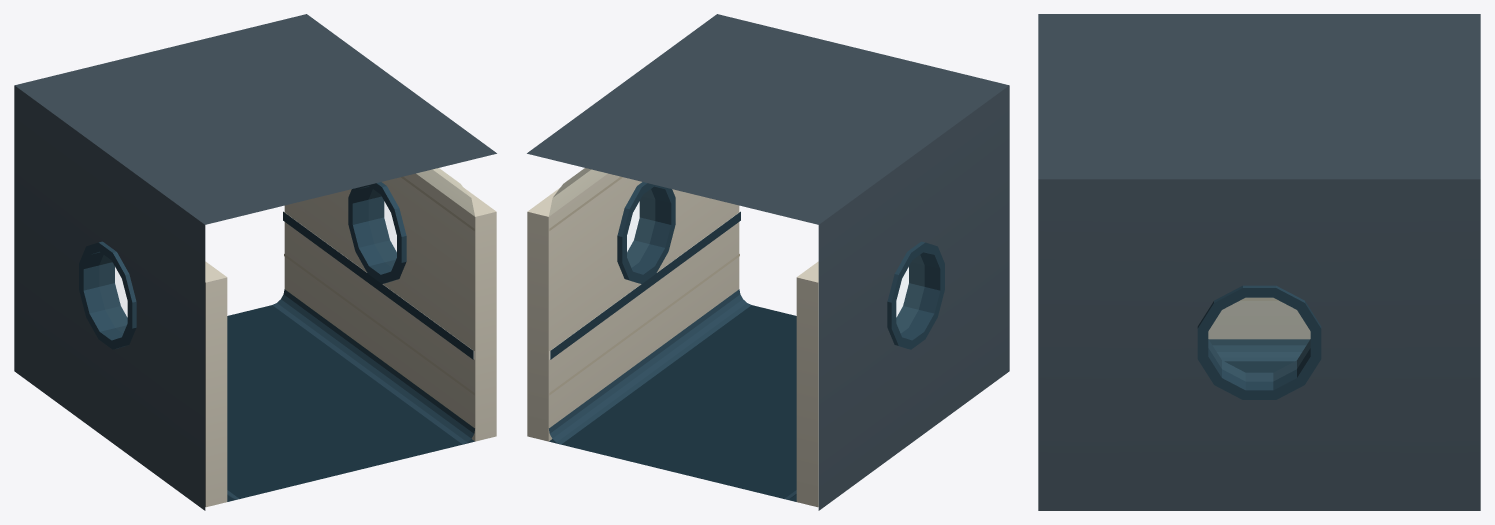
The model's file is corredor_portal.glb.
3 renders of one model, left to right at view 1: azimuth 30°, elevation 25°; view 2: azimuth 150°, elevation 25°; view 3: azimuth 270°, elevation 25°, orthographic. The views are drawn at different scales.
Visible parts, largest first — view 1: casco, paredes, faixa_apagada, teto; view 2: casco, paredes, faixa_apagada, teto; view 3: casco, paredes.
Boxes of the visible parts, bbox=[...] form: casco: bbox=[14, 14, 496, 510]; paredes: bbox=[79, 173, 496, 507]; faixa_apagada: bbox=[283, 211, 473, 359]; teto: bbox=[416, 168, 474, 216]; casco: bbox=[527, 14, 1009, 510]; paredes: bbox=[527, 173, 944, 507]; faixa_apagada: bbox=[550, 211, 740, 359]; teto: bbox=[549, 168, 607, 216]; casco: bbox=[1038, 14, 1480, 510]; paredes: bbox=[1197, 285, 1321, 399].
Bounding box in the file's own units: 3.64 × 3.31 × 4.
